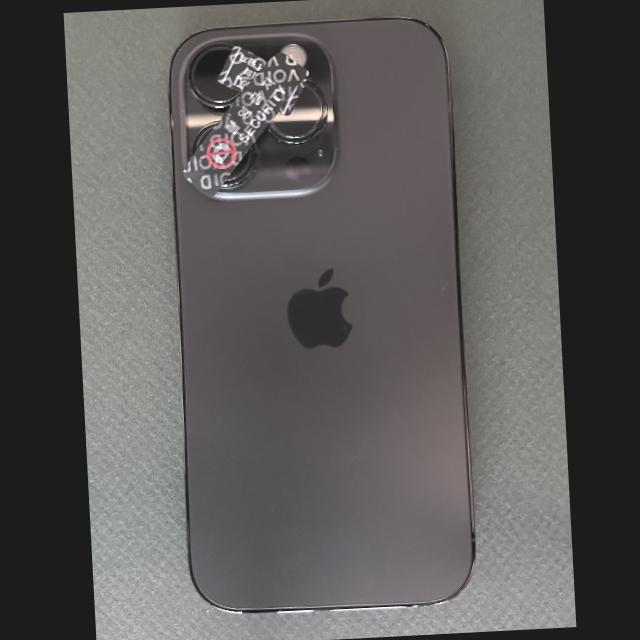lens: (266, 80, 328, 144), (187, 43, 242, 107), (223, 144, 257, 187)
phone: (171, 19, 474, 611)
sticker: (182, 52, 310, 197), (218, 47, 266, 93)
